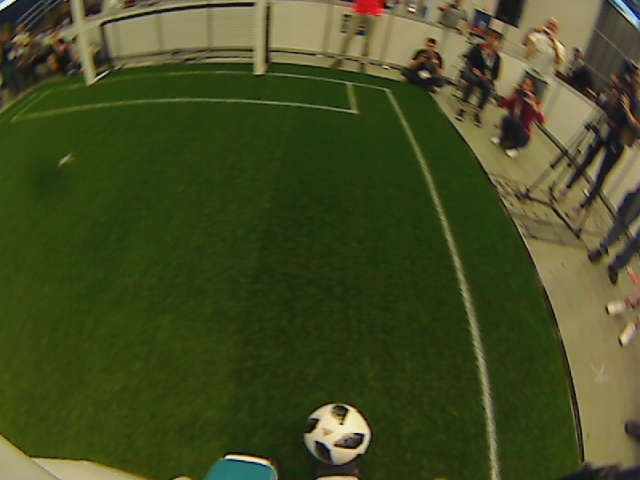ball: (301, 401, 375, 466)
